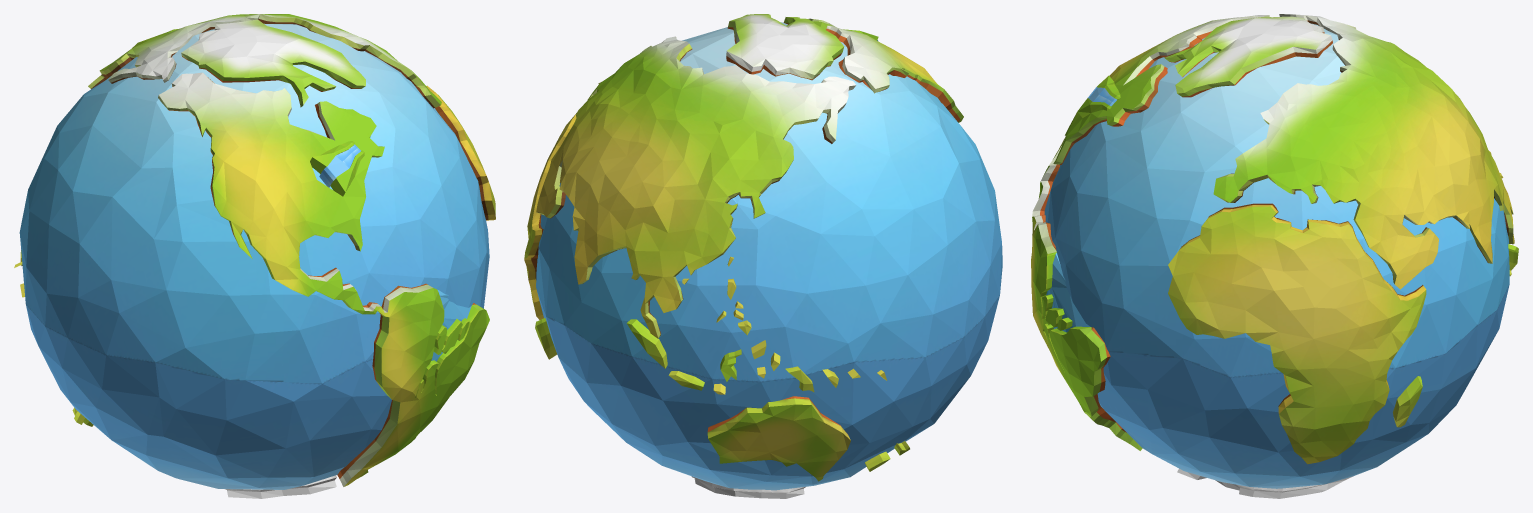
File: Earth_v2.fbx
The picture shows the model from 3 angles, left to right: view 1: azimuth 30°, elevation 25°; view 2: azimuth 150°, elevation 25°; view 3: azimuth 270°, elevation 25°; orthographic projection.
Visible parts, largest first — view 1: Earth; view 2: Earth; view 3: Earth.
Boxes of the visible parts, x1=… form: Earth: x1=14, y1=14, x2=495, y2=498; Earth: x1=524, y1=14, x2=1002, y2=498; Earth: x1=1031, y1=14, x2=1518, y2=498.
Bounding box in the file's own units: 210 × 213 × 213.
1 material, 1 textured.
